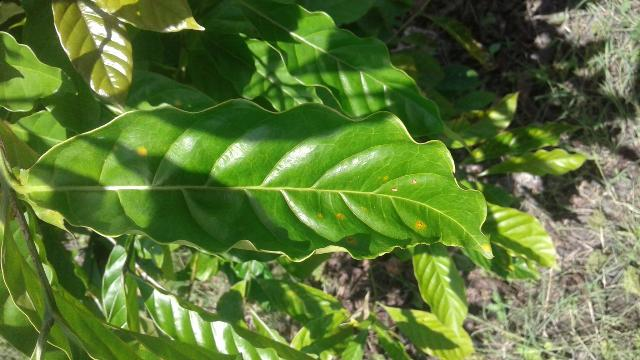rust_level_1: (24, 99, 491, 262)
